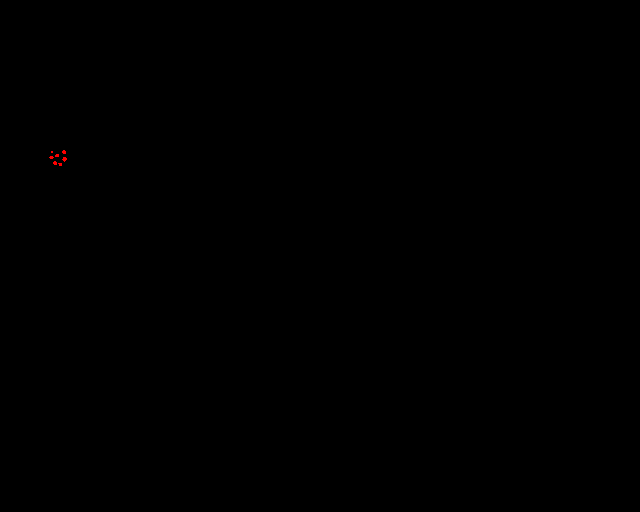Target: (62, 157, 67, 162), (62, 150, 66, 154), (53, 161, 57, 165), (49, 156, 54, 159), (55, 154, 59, 157), (58, 163, 62, 166), (51, 151, 53, 153)
